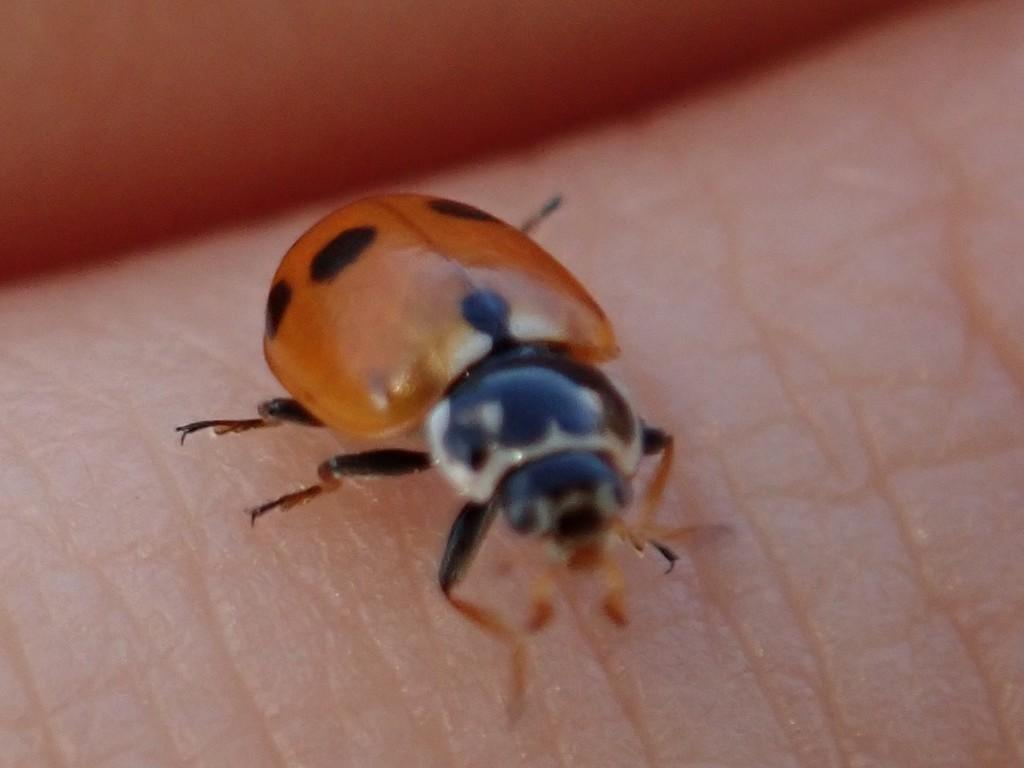ladybug: (173, 189, 687, 725)
